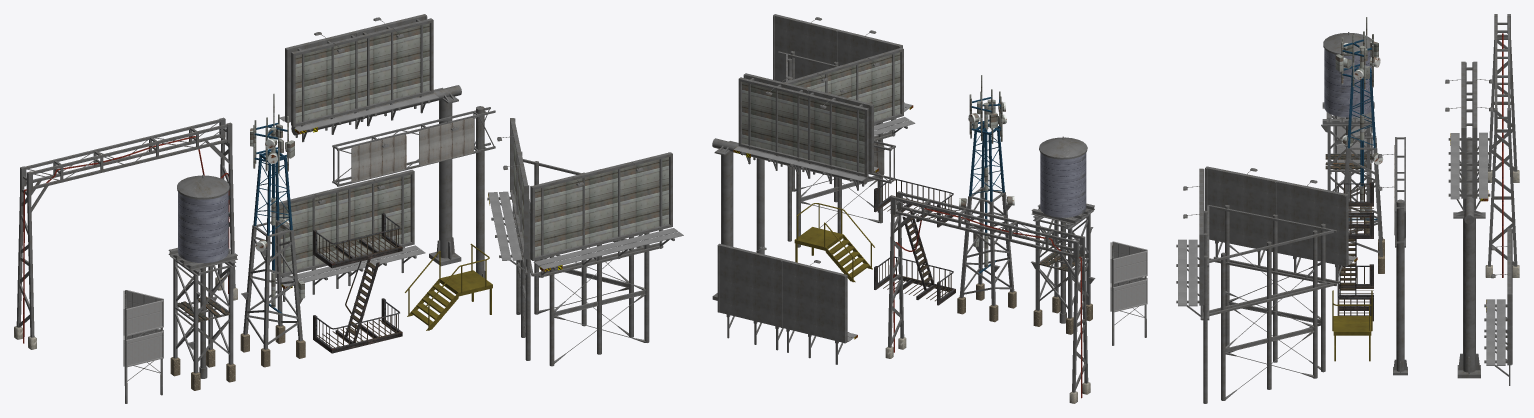
File: urban.gltf
3 views of the same model, side by side, from view 1: azimuth 30°, elevation 25°; view 2: azimuth 150°, elevation 25°; view 3: azimuth 270°, elevation 25° (orthographic). The views are drawn at different scales.
Visible parts, largest first — view 1: SP_TNR_BillboardBig_1_Metal_0, SP_TNR_BillboardBig_1_Plank_0, SP_HWS_Billboard_1_Plank_0, SP_IND_ArkCable_1, SP_TNR_Rooftower_1, SP_TNR_BillboardWall_1_Plank_0, SP_HWS_SignFlyover_1, SP_TNR_WatertowerSmall_1_SP_TNR_Metal_1_0, SP_HWS_Billboard_1_Metal_0, SP_TNR_WatertowerSmall_1_SP_TNR_Metal_4_0, SP_TNR_BillboardWall_1_Metal_0, SP_TNR_BillboardBig_1_Steps_0 (+8 smaller); view 2: SP_TNR_BillboardWall_1_Metal_0, SP_TNR_BillboardBig_1_Metal_0, SP_IND_ArkCable_1, SP_HWS_Billboard_1_Plank_0, SP_TNR_Rooftower_1, SP_HWS_Billboard_1_Metal_0, SP_TNR_WatertowerSmall_1_SP_TNR_Metal_1_0, SP_TNR_BillboardBig_1_Plank_0, SP_TNR_WatertowerSmall_1_SP_TNR_Metal_4_0, SP_TNR_BillboardRace_1_Wood_0, SP_TNR_StairsOld_1_WT_RoofStairs1_0, SP_HWS_Billboard_1_Metal_maybe_new_0 (+7 smaller); view 3: SP_TNR_BillboardBig_1_Metal_0, SP_TNR_Rooftower_1, SP_IND_ArkCable_1, SP_HWS_Billboard_1_Metal_maybe_new_0, SP_TNR_WatertowerSmall_1_SP_TNR_Metal_1_0, SP_HWS_Billboard_1_Metal_0, SP_HWS_SignFlyover_1, SP_TNR_WatertowerSmall_1_SP_TNR_Metal_4_0, SP_TNR_Firestairs_1_SP_TNR_Firestairs_0, SP_TNR_BillboardBig_1_Steps_0, SP_TNR_BillboardWall_1_Steps_0, SP_HWS_Billboard_1_Steps_0 (+5 smaller).
Boxes of the visible parts, x1,y1,x2,y2 form: SP_TNR_BillboardBig_1_Metal_0: (487, 118, 674, 366); SP_TNR_BillboardBig_1_Plank_0: (514, 140, 668, 256); SP_HWS_Billboard_1_Plank_0: (295, 23, 429, 122); SP_IND_ArkCable_1: (14, 117, 237, 349); SP_TNR_Rooftower_1: (240, 93, 305, 367); SP_TNR_BillboardWall_1_Plank_0: (279, 174, 410, 272); SP_HWS_SignFlyover_1: (332, 106, 495, 278); SP_TNR_WatertowerSmall_1_SP_TNR_Metal_1_0: (168, 174, 237, 378); SP_HWS_Billboard_1_Metal_0: (285, 14, 433, 142); SP_TNR_WatertowerSmall_1_SP_TNR_Metal_4_0: (178, 192, 228, 263); SP_TNR_BillboardWall_1_Metal_0: (275, 169, 416, 301); SP_TNR_BillboardBig_1_Steps_0: (488, 191, 683, 269); SP_TNR_BillboardWall_1_Metal_0: (717, 243, 849, 364); SP_TNR_BillboardBig_1_Metal_0: (773, 14, 907, 247); SP_IND_ArkCable_1: (885, 191, 1090, 403); SP_HWS_Billboard_1_Plank_0: (742, 82, 864, 172); SP_TNR_Rooftower_1: (957, 75, 1016, 322); SP_HWS_Billboard_1_Metal_0: (738, 73, 873, 190); SP_TNR_WatertowerSmall_1_SP_TNR_Metal_1_0: (1031, 136, 1095, 323); SP_TNR_BillboardBig_1_Plank_0: (792, 52, 900, 120); SP_TNR_WatertowerSmall_1_SP_TNR_Metal_4_0: (1040, 153, 1086, 217); SP_TNR_BillboardRace_1_Wood_0: (1110, 241, 1147, 312); SP_TNR_StairsOld_1_WT_RoofStairs1_0: (794, 203, 874, 282); SP_HWS_Billboard_1_Metal_maybe_new_0: (712, 138, 868, 300); SP_TNR_BillboardBig_1_Metal_0: (1176, 166, 1348, 403); SP_TNR_Rooftower_1: (1335, 17, 1384, 273); SP_IND_ArkCable_1: (1485, 14, 1519, 277); SP_HWS_Billboard_1_Metal_maybe_new_0: (1453, 137, 1485, 378); SP_TNR_WatertowerSmall_1_SP_TNR_Metal_1_0: (1321, 32, 1374, 229); SP_HWS_Billboard_1_Metal_0: (1445, 61, 1493, 210); SP_HWS_SignFlyover_1: (1378, 137, 1407, 375); SP_TNR_WatertowerSmall_1_SP_TNR_Metal_4_0: (1324, 49, 1372, 117); SP_TNR_Firestairs_1_SP_TNR_Firestairs_0: (1337, 231, 1373, 321); SP_TNR_BillboardBig_1_Steps_0: (1178, 239, 1357, 306); SP_TNR_BillboardWall_1_Steps_0: (1486, 299, 1505, 365); SP_HWS_Billboard_1_Steps_0: (1450, 132, 1487, 199).
Bounding box in the file's own units: 21.13 × 11.56 × 13.18.
Materials: 28 (28 with a texture image).
